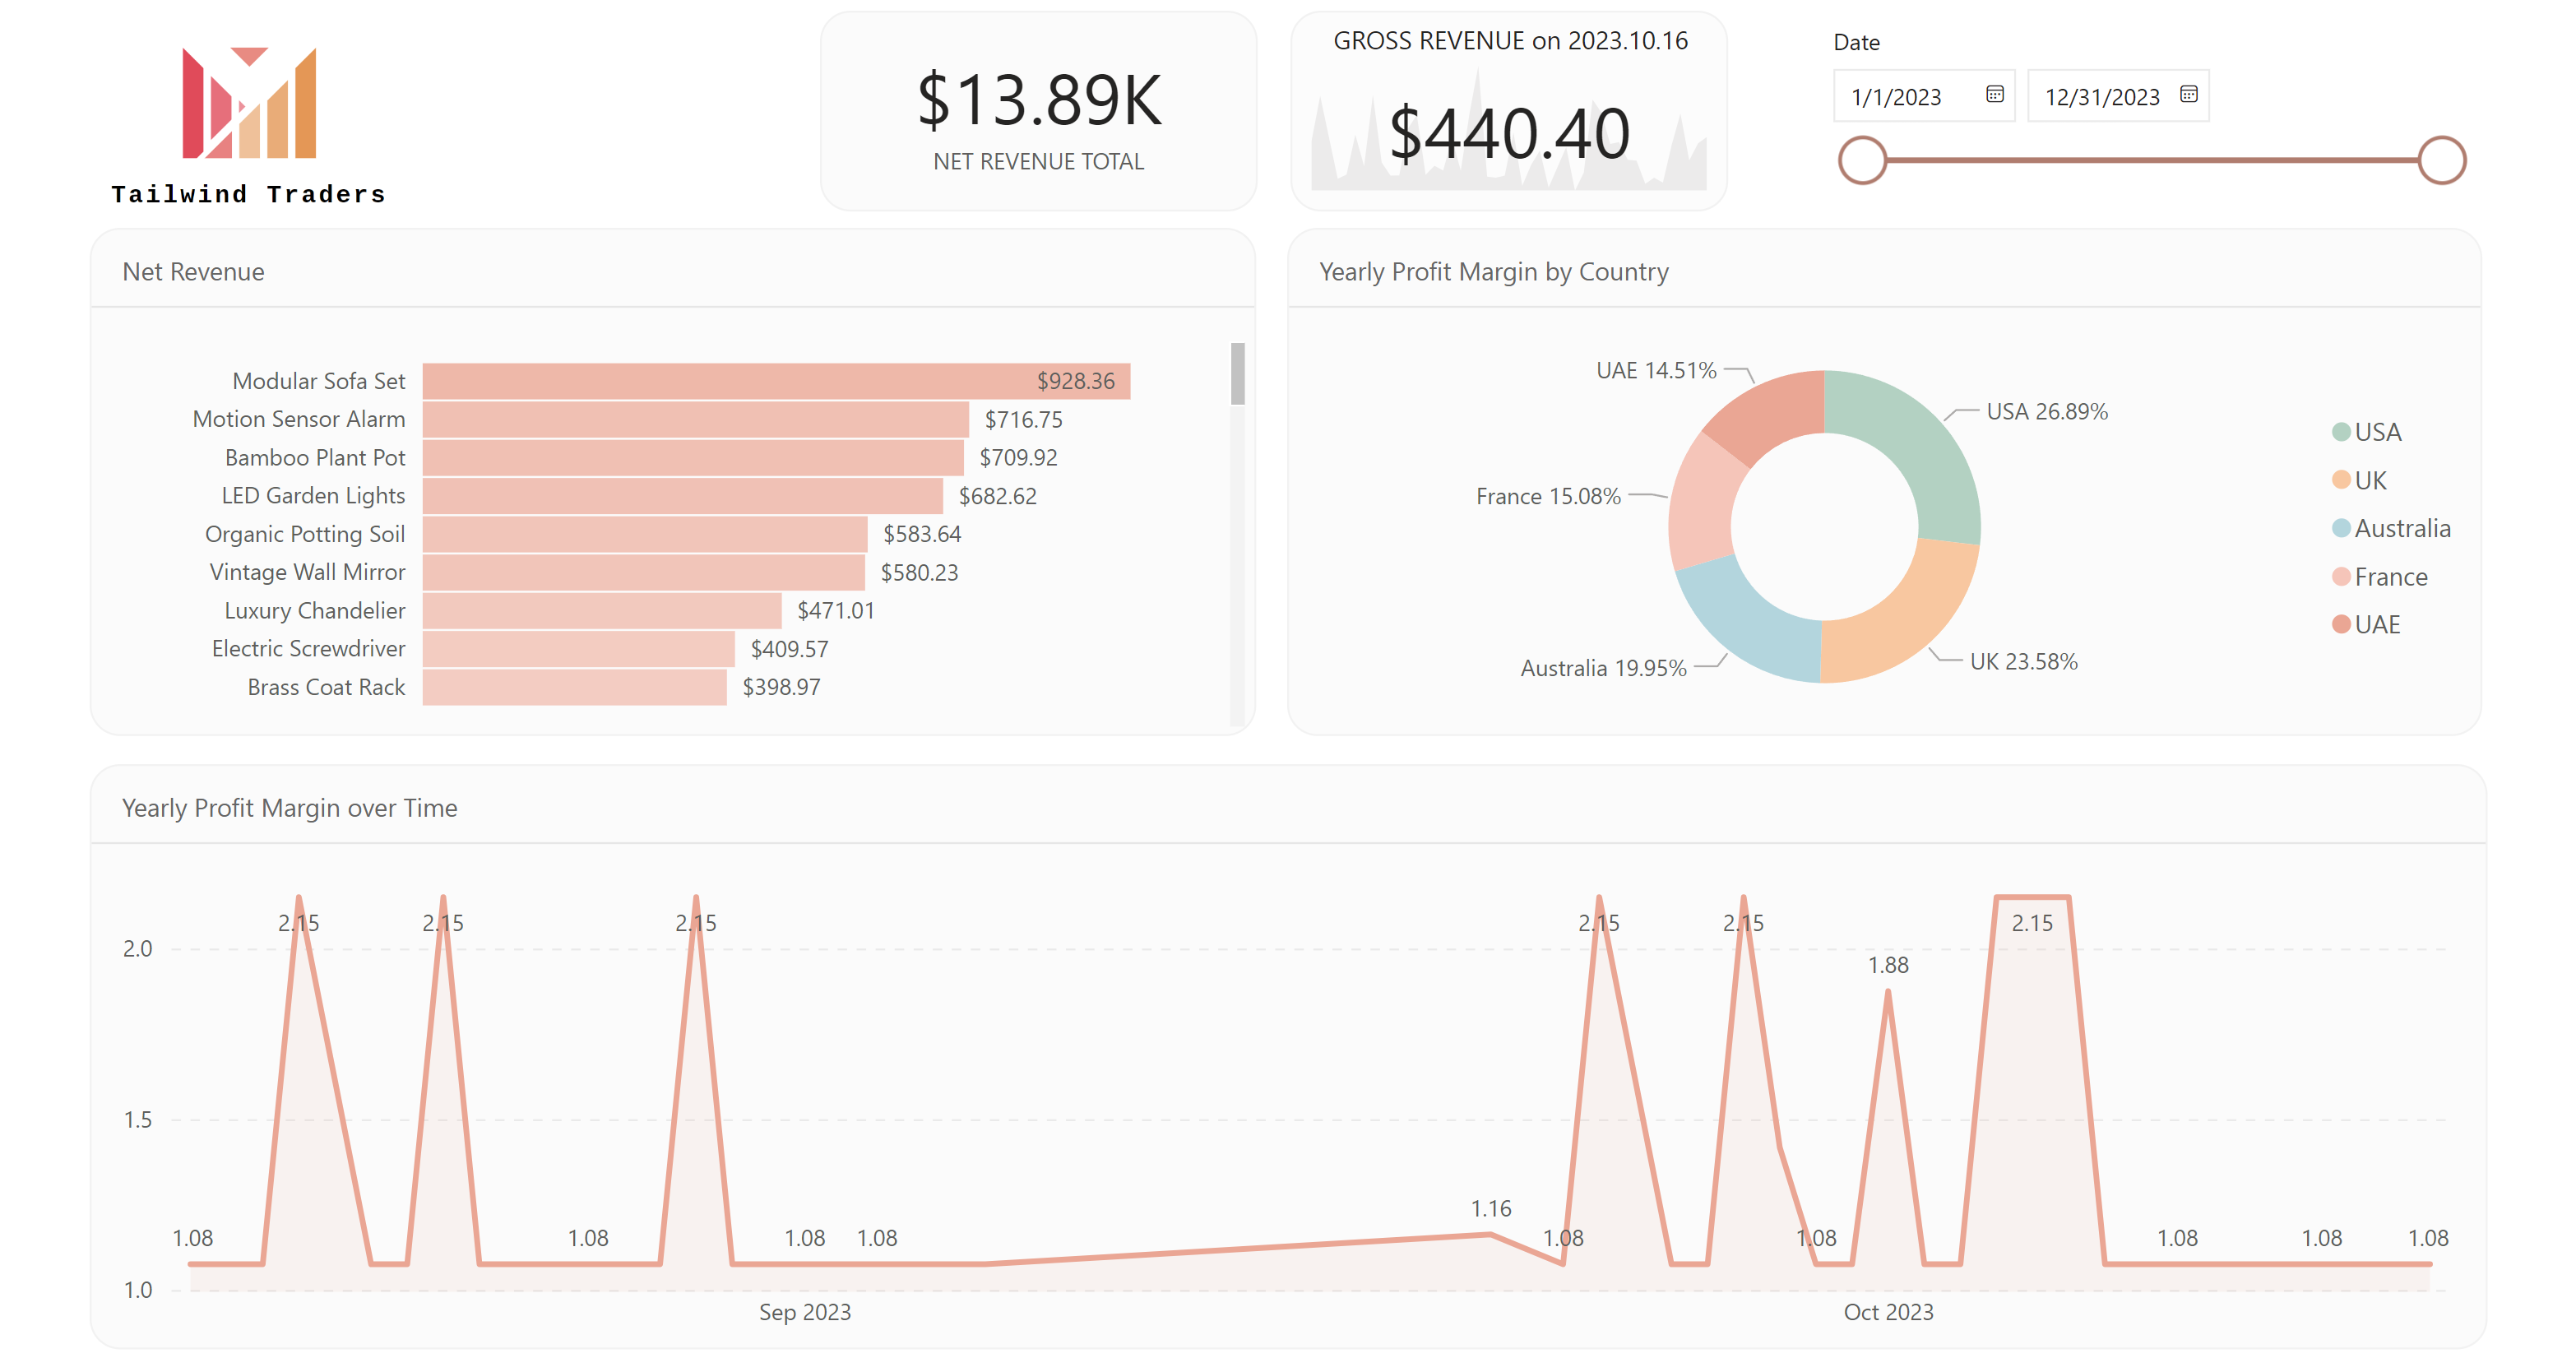

This screenshot's page, from the dashboard's own definition file:
{"tool":"powerbi","page":{"name":"Profit Overview","canvas":[1280,720],"ordinal":1},"visuals":[{"type":"kpi","fields":{"Indicator":["Sum(Sales in USD.Gross Revenue USD)"],"TrendLine":["_CalendarTable.Date"]},"box":[641.2,8,229.8,105.5],"z":0},{"type":"card","fields":{"Values":["Sum(Sales in USD.Net Revenue USD)"]},"box":[394.1,8,229.8,105.5],"z":1000},{"type":"barChart","title":"Net Revenue","fields":{"Y":["Sum(Sales in USD.Net Revenue USD)"],"Category":["Sales in USD.Product Categories.Product Category","Sales in USD.Product Categories.Product Name"]},"box":[10.7,121.6,613.2,267.2],"z":2000},{"type":"image","box":[11.2,7.5,166.7,105.7],"z":3000},{"type":"areaChart","title":"Yearly Profit Margin over Time","fields":{"Category":["_CalendarTable.Date.Variation.Иерархия дат.Год1","_CalendarTable.Date.Variation.Иерархия дат.Квартал","_CalendarTable.Date.Variation.Иерархия дат.Месяц","_CalendarTable.Date.Variation.Иерархия дат.День"],"Y":["Sum(Sales in USD.Yearly Profit Margin)"]},"box":[10.7,403.4,1259.8,307.3],"z":4000},{"type":"slicer","fields":{"Values":["_CalendarTable.Date"]},"box":[913.8,10.7,354,102.9],"z":5000},{"type":"donutChart","title":"Yearly Profit Margin by Country","fields":{"Y":["Sum(Sales in USD.Yearly Profit Margin)"],"Category":["Countries.Country"]},"box":[639.9,121.6,627.9,267.2],"z":6000}]}

Visuals, with their boxes on the page's 1280x720 design canvas (x1, y1, x2, y2). These are canvas units, not pixel positions in the 2576x1358 screenshot, which may show the page scaled, cropped or inside an application window:
kpi - Sum(Sales in USD.Gross Revenue USD) x _CalendarTable.Date: <bbox>641, 8, 871, 114</bbox>
card - Sum(Sales in USD.Net Revenue USD): <bbox>394, 8, 624, 114</bbox>
"Net Revenue" barChart: <bbox>11, 122, 624, 389</bbox>
image: <bbox>11, 8, 178, 113</bbox>
"Yearly Profit Margin over Time" areaChart: <bbox>11, 403, 1270, 711</bbox>
slicer - _CalendarTable.Date: <bbox>914, 11, 1268, 114</bbox>
"Yearly Profit Margin by Country" donutChart: <bbox>640, 122, 1268, 389</bbox>
